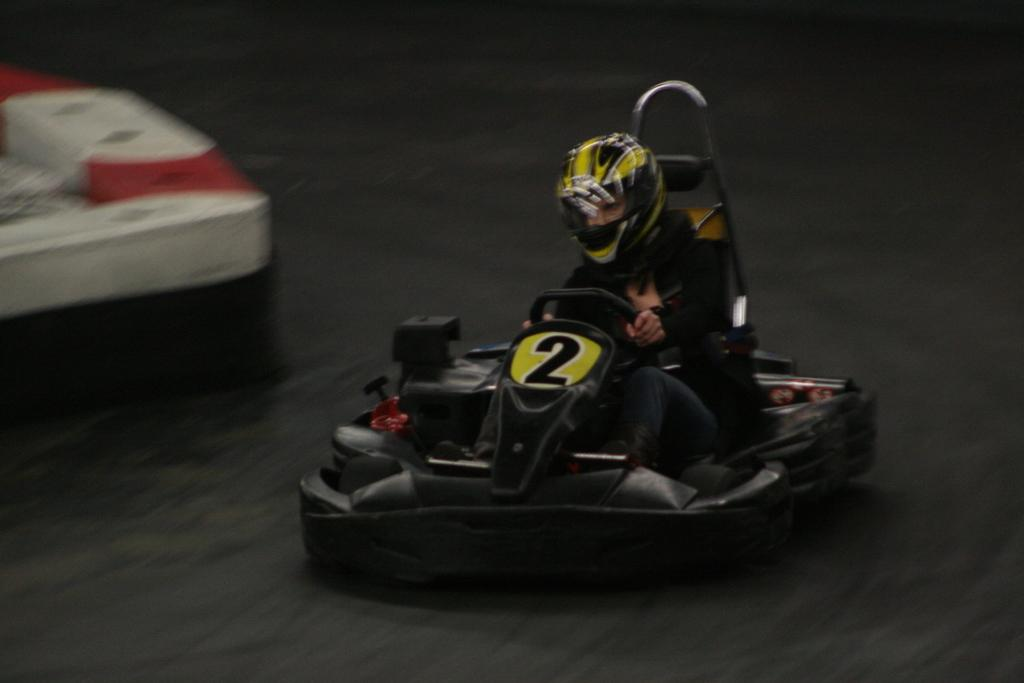helmet: (555, 131, 668, 267)
